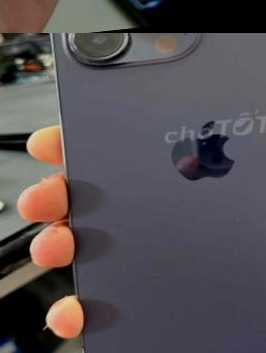scratch: (98, 33, 156, 42)
